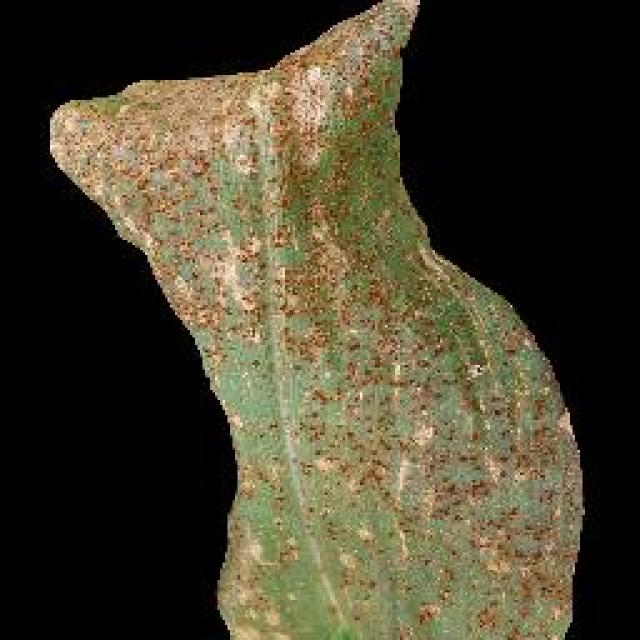Corn Common Rust: (117, 66, 553, 576)
